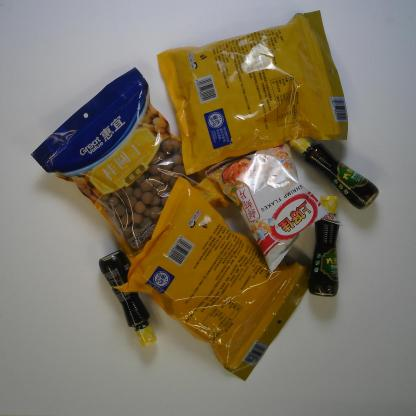Dried Food: (108, 172, 312, 383), (28, 64, 237, 267), (155, 8, 351, 177)
Puffed Food: (204, 143, 332, 272)
Seasoner: (284, 128, 382, 210), (96, 248, 157, 349), (304, 193, 343, 300)
